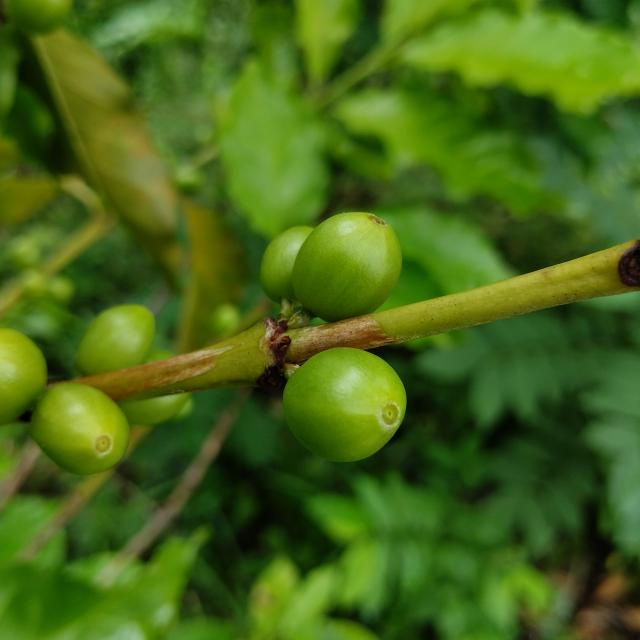green: (283, 348, 407, 462), (292, 212, 402, 322), (29, 383, 129, 476), (76, 304, 154, 376), (0, 328, 46, 425), (260, 226, 314, 303), (117, 393, 190, 426)
